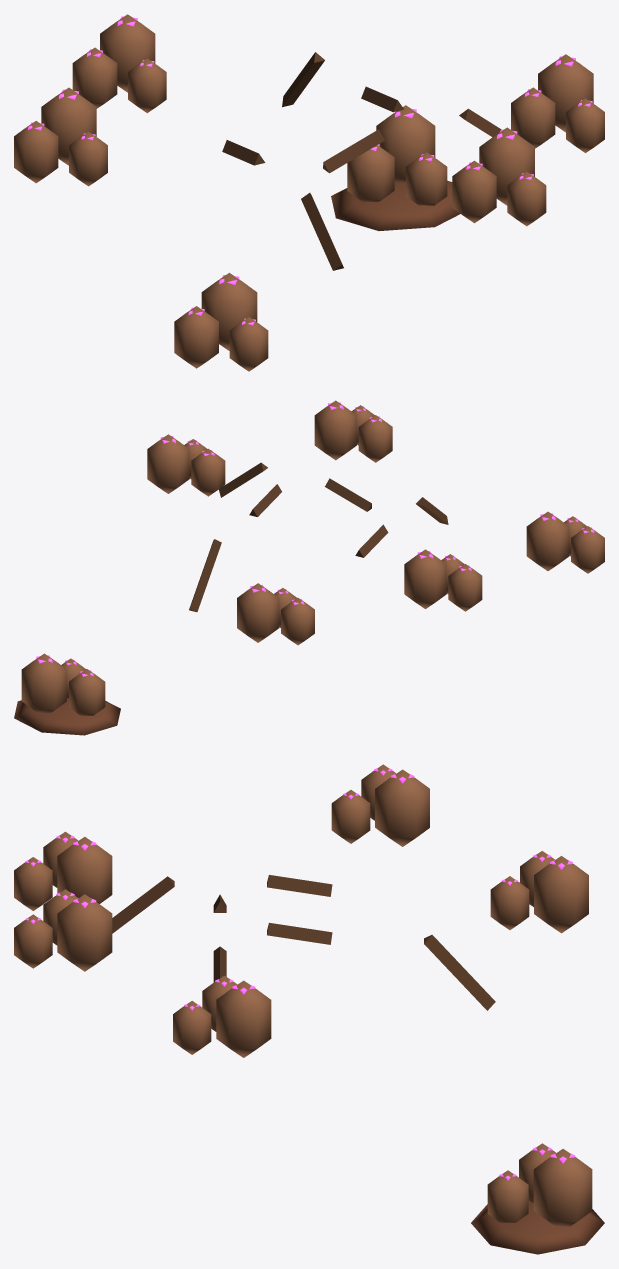
Rendered from overworld-settlement-eggs-city.glb.
The picture shows the model from 3 angles, top to bottom: view 1: azimuth 30°, elevation 25°; view 2: azimuth 150°, elevation 25°; view 3: azimuth 270°, elevation 25°; orthographic projection. The views are drawn at different scales.
Parts seen in each view (by area): view 1: cluster1_mound, cluster1_egg0, cluster0_egg0, cluster5_egg0, cluster2_egg0, cluster4_egg0, cluster3_egg0, cluster1_egg1, cluster5_egg1, cluster0_egg1, cluster4_egg1, cluster2_egg1 (+13 smaller); view 2: cluster1_mound, cluster1_egg0, cluster0_egg0, cluster4_egg0, cluster5_egg0, cluster3_egg0, cluster2_egg0, cluster1_egg1, cluster3_egg1, cluster5_egg1, cluster4_egg1, cluster0_egg1 (+4 smaller); view 3: cluster1_mound, cluster1_egg0, cluster3_egg0, cluster5_egg0, cluster4_egg0, cluster2_egg0, cluster0_egg0, cluster1_egg2, cluster4_egg2, cluster2_egg2, cluster0_egg2, cluster3_egg2 (+11 smaller).
Part boxes in pixels (x1=…): cluster1_mound: x1=331, y1=180, x2=460, y2=230; cluster1_egg0: x1=376, y1=105, x2=435, y2=182; cluster0_egg0: x1=201, y1=272, x2=257, y2=350; cluster5_egg0: x1=479, y1=127, x2=534, y2=205; cluster2_egg0: x1=100, y1=14, x2=155, y2=92; cluster4_egg0: x1=41, y1=87, x2=96, y2=165; cluster3_egg0: x1=538, y1=54, x2=593, y2=132; cluster1_egg1: x1=347, y1=145, x2=394, y2=202; cluster5_egg1: x1=452, y1=160, x2=496, y2=223; cluster0_egg1: x1=174, y1=306, x2=218, y2=368; cluster4_egg1: x1=14, y1=121, x2=58, y2=183; cluster2_egg1: x1=72, y1=47, x2=117, y2=108; cluster1_mound: x1=14, y1=698, x2=120, y2=735; cluster1_egg0: x1=21, y1=653, x2=66, y2=713; cluster0_egg0: x1=526, y1=511, x2=569, y2=570; cluster4_egg0: x1=404, y1=549, x2=446, y2=608; cluster5_egg0: x1=314, y1=400, x2=356, y2=460; cluster3_egg0: x1=147, y1=434, x2=189, y2=493; cluster2_egg0: x1=237, y1=583, x2=279, y2=642; cluster1_egg1: x1=69, y1=669, x2=105, y2=715; cluster3_egg1: x1=191, y1=448, x2=225, y2=496; cluster5_egg1: x1=358, y1=415, x2=392, y2=462; cluster4_egg1: x1=448, y1=564, x2=482, y2=611; cluster0_egg1: x1=571, y1=526, x2=604, y2=573; cluster1_mound: x1=471, y1=1200, x2=604, y2=1254; cluster1_egg0: x1=533, y1=1149, x2=592, y2=1226; cluster3_egg0: x1=216, y1=980, x2=271, y2=1057; cluster5_egg0: x1=57, y1=894, x2=112, y2=971; cluster4_egg0: x1=375, y1=769, x2=429, y2=846; cluster2_egg0: x1=534, y1=856, x2=588, y2=933; cluster0_egg0: x1=57, y1=837, x2=112, y2=903; cluster1_egg2: x1=487, y1=1170, x2=528, y2=1222; cluster4_egg2: x1=331, y1=790, x2=370, y2=843; cluster2_egg2: x1=490, y1=876, x2=529, y2=929; cluster0_egg2: x1=14, y1=857, x2=52, y2=910; cluster3_egg2: x1=173, y1=1001, x2=211, y2=1054.
Bounding box in the file's own units: 0.5666 × 0.281 × 0.5579.
